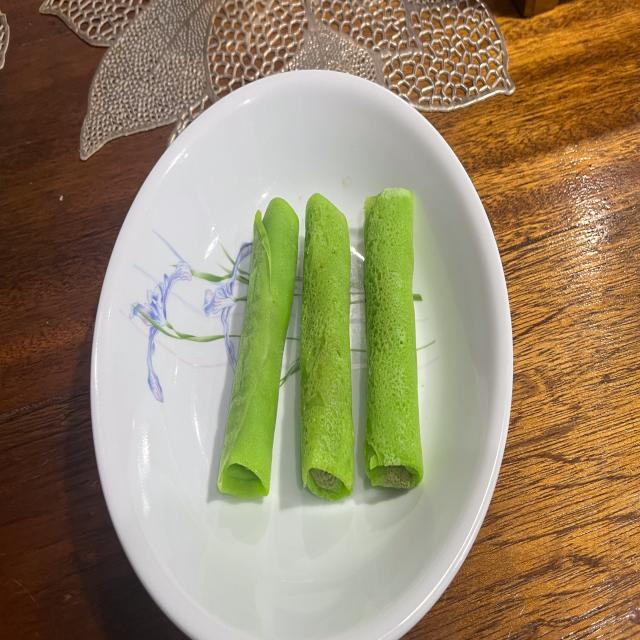Kuih-Ketayap: (218, 198, 299, 498), (364, 189, 424, 489), (300, 193, 354, 500)
